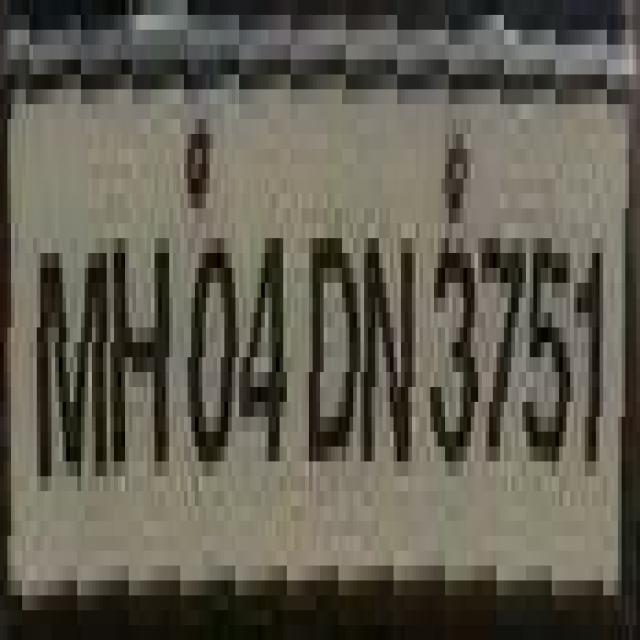plate: (0, 29, 614, 625)
